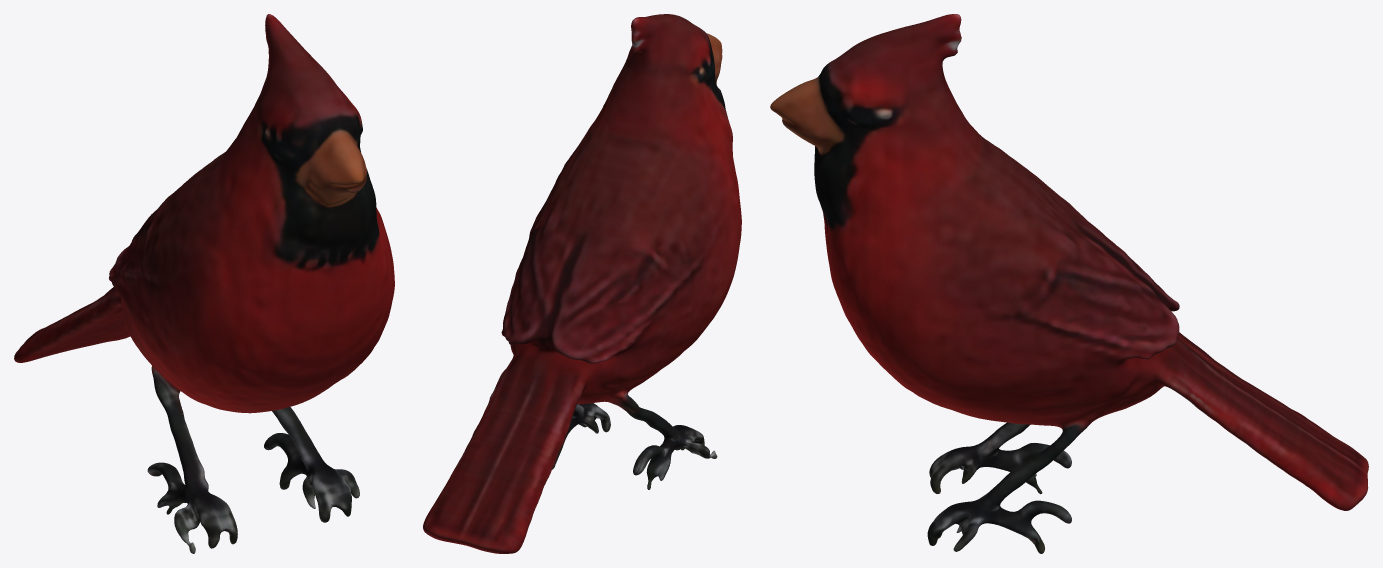
The model's file is 89abc6bdbb5b_cardinal__3d_asset_0_glb.glb.
The picture shows the model from 3 angles, left to right: view 1: azimuth 30°, elevation 25°; view 2: azimuth 150°, elevation 25°; view 3: azimuth 270°, elevation 25°; orthographic projection. The views are drawn at different scales.
Parts seen in each view (by area): view 1: world; view 2: world; view 3: world.
Boxes of the visible parts, left/top/right/bottom form: world: left=14, top=14, right=394, bottom=553; world: left=423, top=14, right=741, bottom=553; world: left=770, top=14, right=1368, bottom=553.
Size of the model in its own units: 0.182 by 0.4524 by 0.4801.
Materials: 1 (1 with a texture image).
